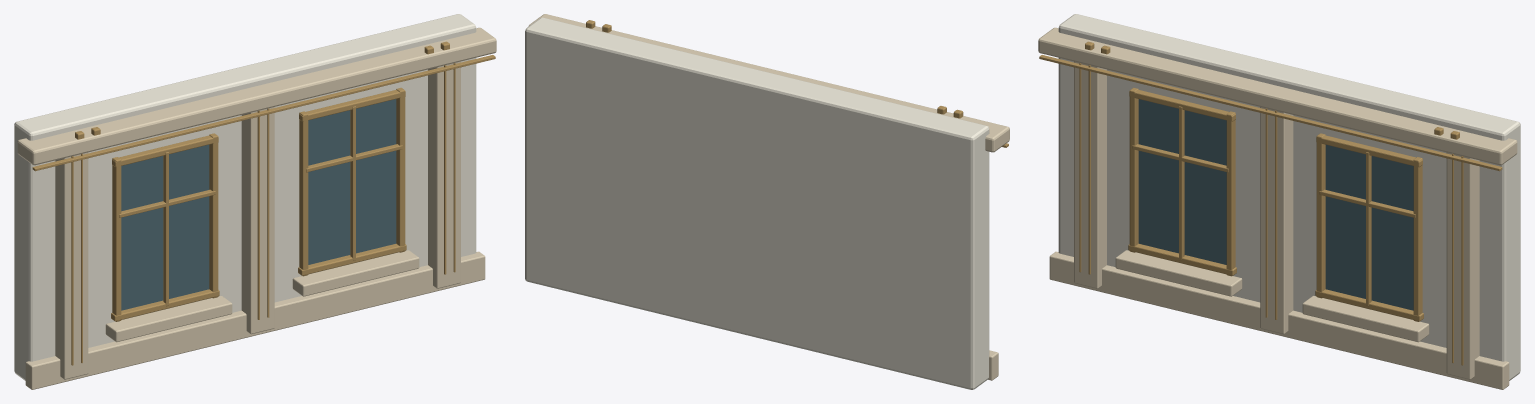
Rendered from R2_ArtDeco_Orla.fbx.
3 renders of one model, left to right at view 1: azimuth 30°, elevation 25°; view 2: azimuth 150°, elevation 25°; view 3: azimuth 330°, elevation 25°, orthographic.
Visible parts, largest first — view 1: R2_ArtDeco_Orla_fachada_marfim, R2_ArtDeco_Orla_moldura_superior, R2_ArtDeco_Orla_janela_alta_1.38_glass, R2_ArtDeco_Orla_janela_alta_-1.38_glass, R2_ArtDeco_Orla_rodape_pedra, R2_ArtDeco_Orla_pilastra_-2.75, R2_ArtDeco_Orla_pilastra_0.0, R2_ArtDeco_Orla_pilastra_2.75, R2_ArtDeco_Orla_peitoril_esculpido_-1.38, R2_ArtDeco_Orla_peitoril_esculpido_1.38, R2_ArtDeco_Orla_friso_bronze, R2_ArtDeco_Orla_janela_alta_1.38_L (+16 smaller); view 2: R2_ArtDeco_Orla_fachada_marfim, R2_ArtDeco_Orla_moldura_superior; view 3: R2_ArtDeco_Orla_fachada_marfim, R2_ArtDeco_Orla_moldura_superior, R2_ArtDeco_Orla_janela_alta_-1.38_glass, R2_ArtDeco_Orla_janela_alta_1.38_glass, R2_ArtDeco_Orla_rodape_pedra, R2_ArtDeco_Orla_pilastra_2.75, R2_ArtDeco_Orla_pilastra_0.0, R2_ArtDeco_Orla_pilastra_-2.75, R2_ArtDeco_Orla_peitoril_esculpido_-1.38, R2_ArtDeco_Orla_peitoril_esculpido_1.38, R2_ArtDeco_Orla_friso_bronze, R2_ArtDeco_Orla_janela_alta_1.38_R (+16 smaller).
Part boxes in pixels (left/top/right/bottom): R2_ArtDeco_Orla_fachada_marfim: left=14, top=14, right=476, bottom=380; R2_ArtDeco_Orla_moldura_superior: left=17, top=27, right=496, bottom=165; R2_ArtDeco_Orla_janela_alta_1.38_glass: left=308, top=99, right=396, bottom=264; R2_ArtDeco_Orla_janela_alta_-1.38_glass: left=121, top=144, right=209, bottom=310; R2_ArtDeco_Orla_rodape_pedra: left=25, top=251, right=485, bottom=389; R2_ArtDeco_Orla_pilastra_-2.75: left=55, top=152, right=88, bottom=379; R2_ArtDeco_Orla_pilastra_0.0: left=241, top=107, right=274, bottom=334; R2_ArtDeco_Orla_pilastra_2.75: left=428, top=61, right=460, bottom=288; R2_ArtDeco_Orla_peitoril_esculpido_-1.38: left=105, top=295, right=232, bottom=342; R2_ArtDeco_Orla_peitoril_esculpido_1.38: left=292, top=250, right=419, bottom=296; R2_ArtDeco_Orla_friso_bronze: left=32, top=55, right=495, bottom=171; R2_ArtDeco_Orla_janela_alta_1.38_L: left=299, top=111, right=308, bottom=276; R2_ArtDeco_Orla_fachada_marfim: left=525, top=17, right=989, bottom=389; R2_ArtDeco_Orla_moldura_superior: left=528, top=14, right=1009, bottom=152; R2_ArtDeco_Orla_fachada_marfim: left=1058, top=14, right=1520, bottom=380; R2_ArtDeco_Orla_moldura_superior: left=1038, top=27, right=1517, bottom=165; R2_ArtDeco_Orla_janela_alta_-1.38_glass: left=1138, top=99, right=1226, bottom=264; R2_ArtDeco_Orla_janela_alta_1.38_glass: left=1325, top=144, right=1413, bottom=310; R2_ArtDeco_Orla_rodape_pedra: left=1049, top=251, right=1509, bottom=389; R2_ArtDeco_Orla_pilastra_2.75: left=1446, top=152, right=1479, bottom=379; R2_ArtDeco_Orla_pilastra_0.0: left=1260, top=107, right=1293, bottom=334; R2_ArtDeco_Orla_pilastra_-2.75: left=1074, top=61, right=1106, bottom=288; R2_ArtDeco_Orla_peitoril_esculpido_-1.38: left=1115, top=250, right=1242, bottom=296; R2_ArtDeco_Orla_peitoril_esculpido_1.38: left=1302, top=295, right=1429, bottom=342; R2_ArtDeco_Orla_friso_bronze: left=1039, top=55, right=1502, bottom=171; R2_ArtDeco_Orla_janela_alta_1.38_R: left=1413, top=157, right=1422, bottom=321.
Bounding box in the file's own units: 685 × 356 × 80.
